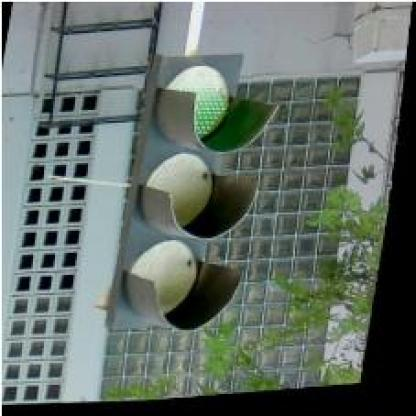green: (108, 47, 288, 342)
